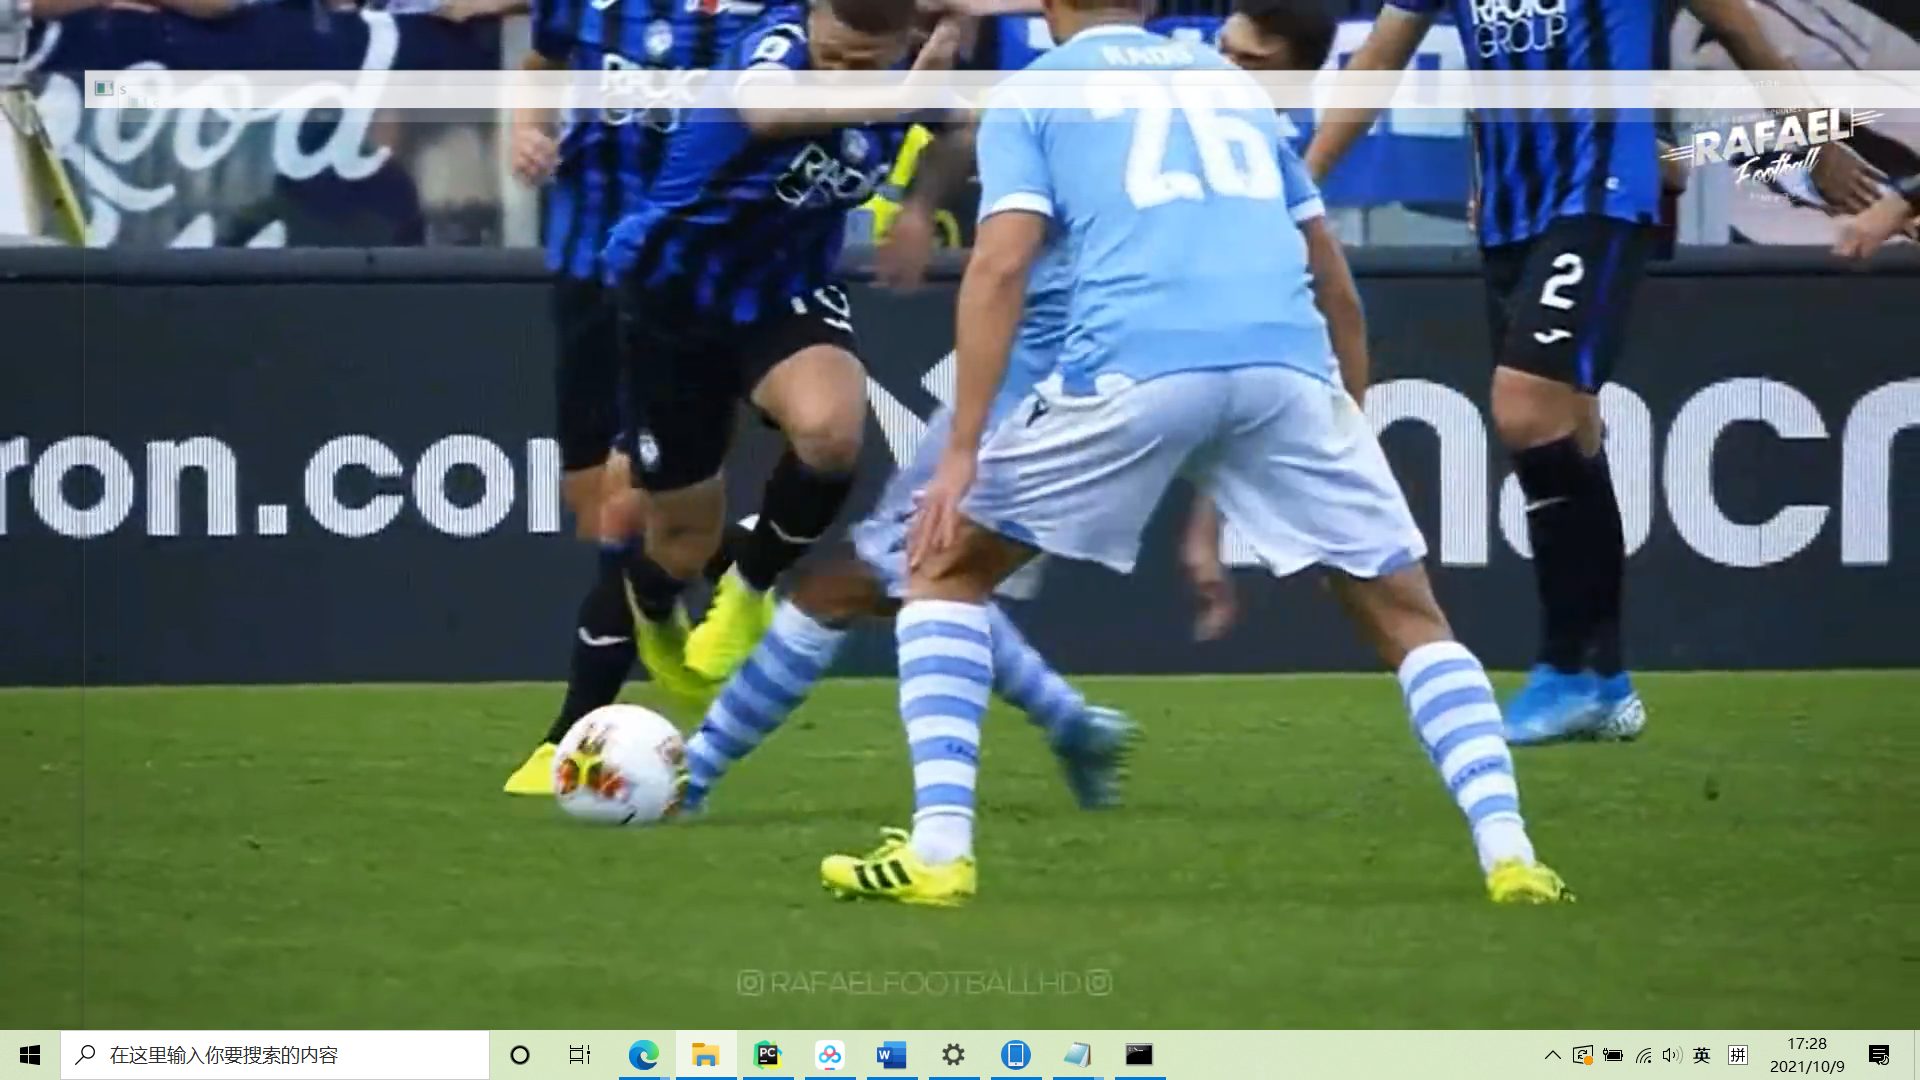ft: (537, 682, 687, 847)
